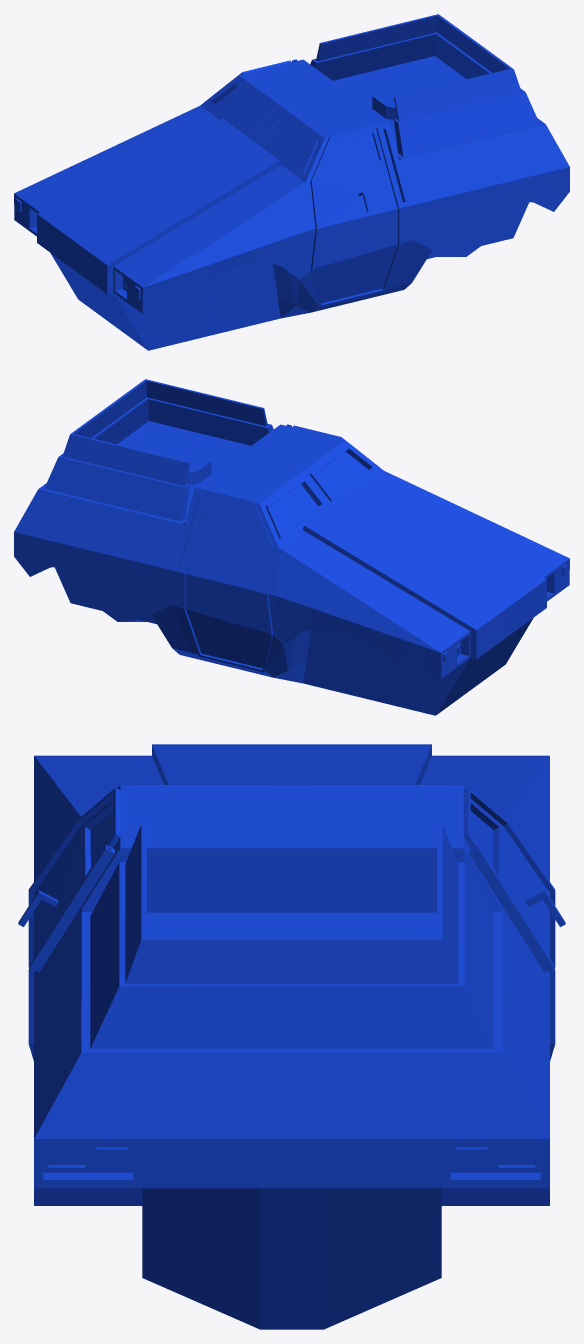
Rendered from PLAYER_UnitLight_Body_Adjusted_01_2023-10-28.fbx.
The picture shows the model from 3 angles, top to bottom: view 1: azimuth 30°, elevation 25°; view 2: azimuth 150°, elevation 25°; view 3: azimuth 270°, elevation 25°; orthographic projection. The views are drawn at different scales.
Visible parts, largest first — view 1: LU.002; view 2: LU.002; view 3: LU.002.
Part boxes in pixels (x1,y1,x2,y2): LU.002: [14, 14, 569, 350]; LU.002: [14, 379, 569, 715]; LU.002: [18, 744, 565, 1329].
Size of the model in its own units: 2.29 by 0.9826 by 1.25.
